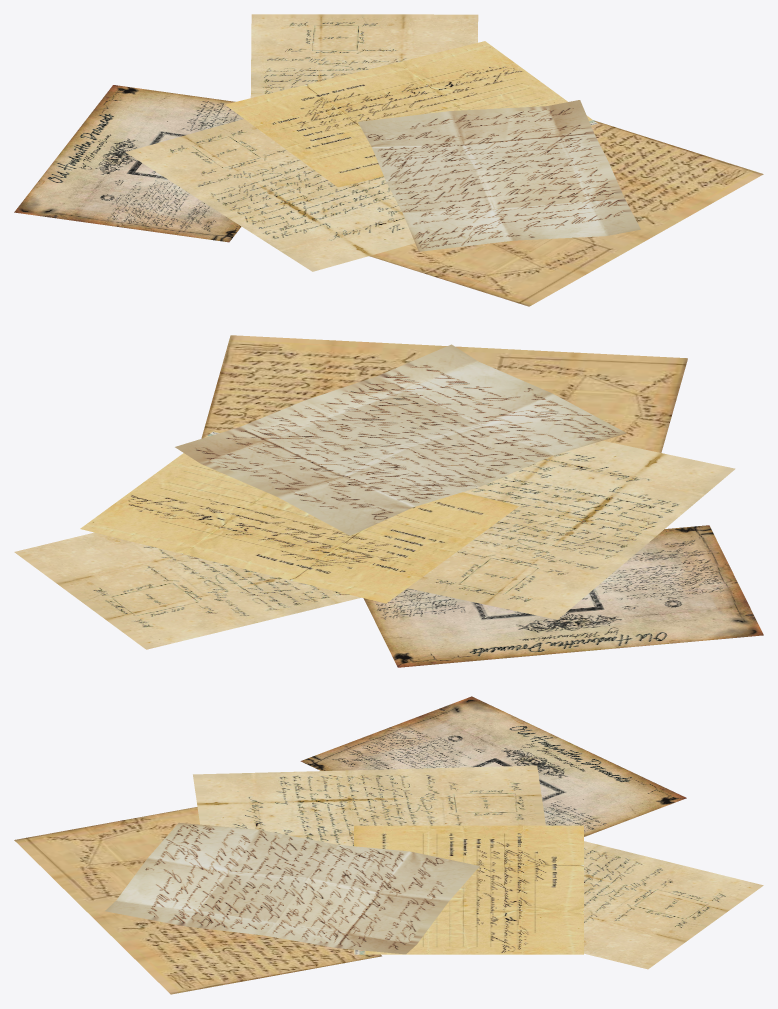
Rendered from Papers 3.fbx.
The picture shows the model from 3 angles, top to bottom: view 1: azimuth 30°, elevation 25°; view 2: azimuth 150°, elevation 25°; view 3: azimuth 270°, elevation 25°; orthographic projection. The views are drawn at different scales.
Parts seen in each view (by area): view 1: Plane.006; view 2: Plane.006; view 3: Plane.006.
Part boxes in pixels (box(x1,y1,x2,y2)): Plane.006: box(14, 14, 763, 306); Plane.006: box(14, 335, 763, 667); Plane.006: box(14, 696, 763, 994).
Size of the model in its own units: 613 by 7.55 by 652.
